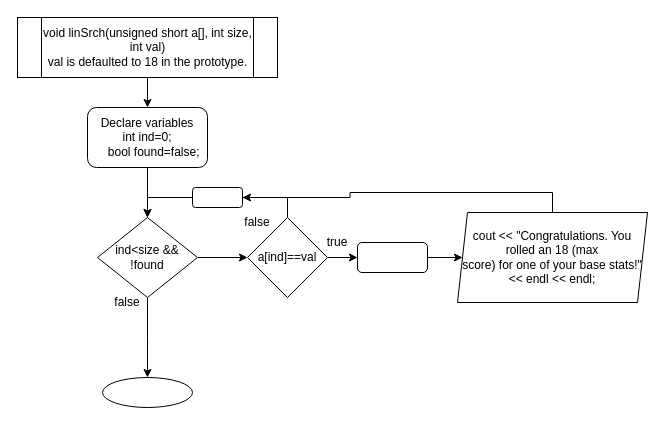
The diagram is 665 pixels wide and 425 high, and some of its shapes have lost their labels. Each missing label, with the centre of its shape:
"end of function" belongs at (147,392).
"found=true;" belongs at (392,257).
"ind++" belongs at (217,197).
